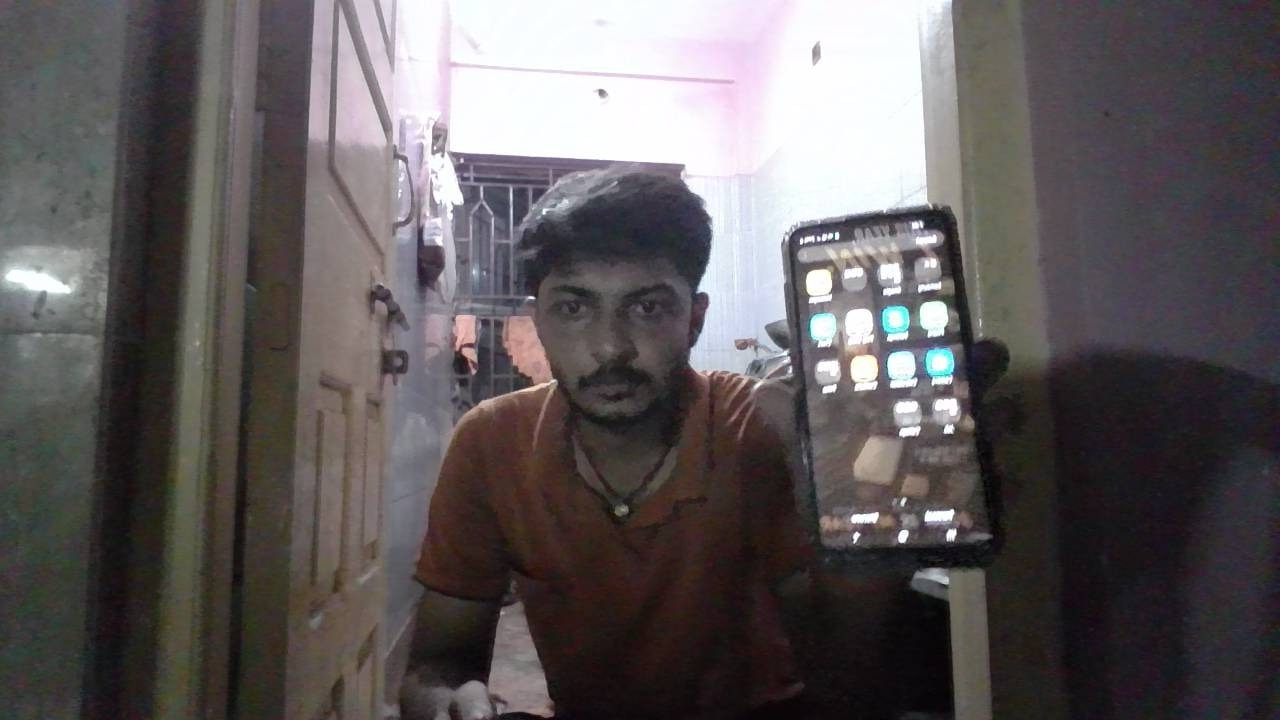red_box: (418, 404, 581, 588), (631, 431, 702, 528)
